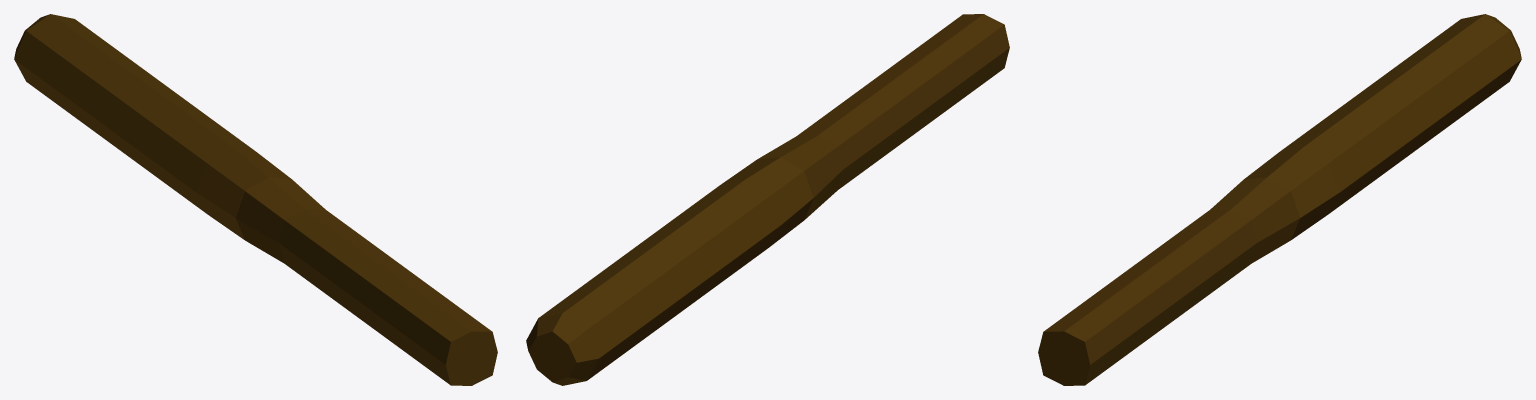
Rendered from bate_world.obj.
3 views of the same model, side by side, from view 1: azimuth 30°, elevation 25°; view 2: azimuth 150°, elevation 25°; view 3: azimuth 330°, elevation 25° (orthographic).
Visible parts, largest first — view 1: bate; view 2: bate; view 3: bate.
Part boxes in pixels (<box>): bate: <box>14,14,497,385</box>; bate: <box>526,14,1009,385</box>; bate: <box>1038,14,1521,385</box>.
Bounding box in the file's own units: 0.1013 × 0.0965 × 1.04.
